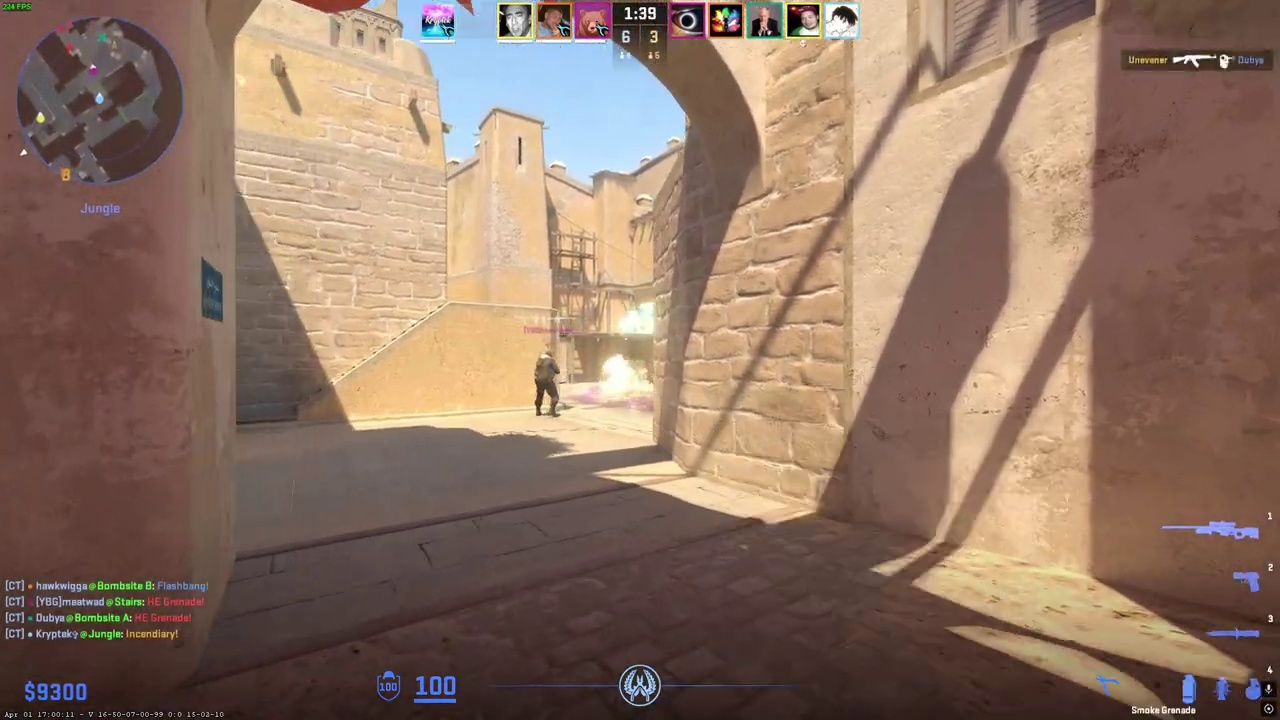CT: (534, 351, 560, 417)
